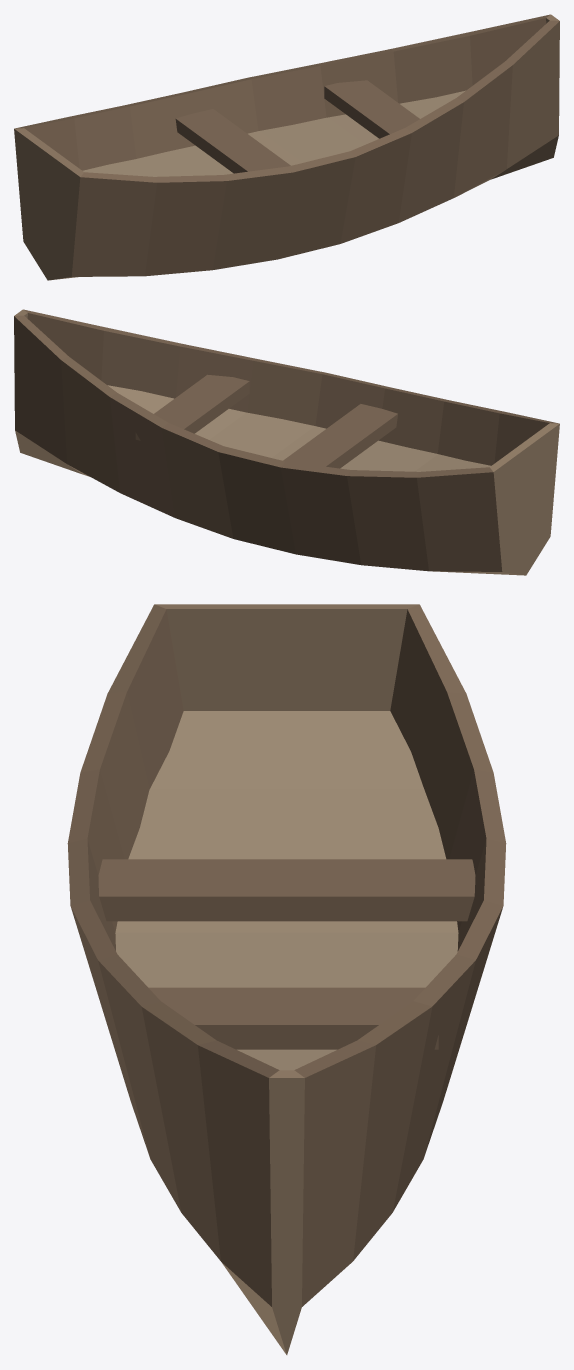
Rendered from skiff.glb.
The picture shows the model from 3 angles, top to bottom: view 1: azimuth 30°, elevation 25°; view 2: azimuth 150°, elevation 25°; view 3: azimuth 270°, elevation 25°; orthographic projection. The views are drawn at different scales.
Visible parts, largest first — view 1: skiff; view 2: skiff; view 3: skiff.
Part boxes in pixels (box(x1,y1,x2,y2)): skiff: box(14, 14, 559, 280); skiff: box(14, 309, 559, 575); skiff: box(67, 604, 506, 1354).
Size of the model in its own units: 0.3449 by 0.1041 by 0.1288.
